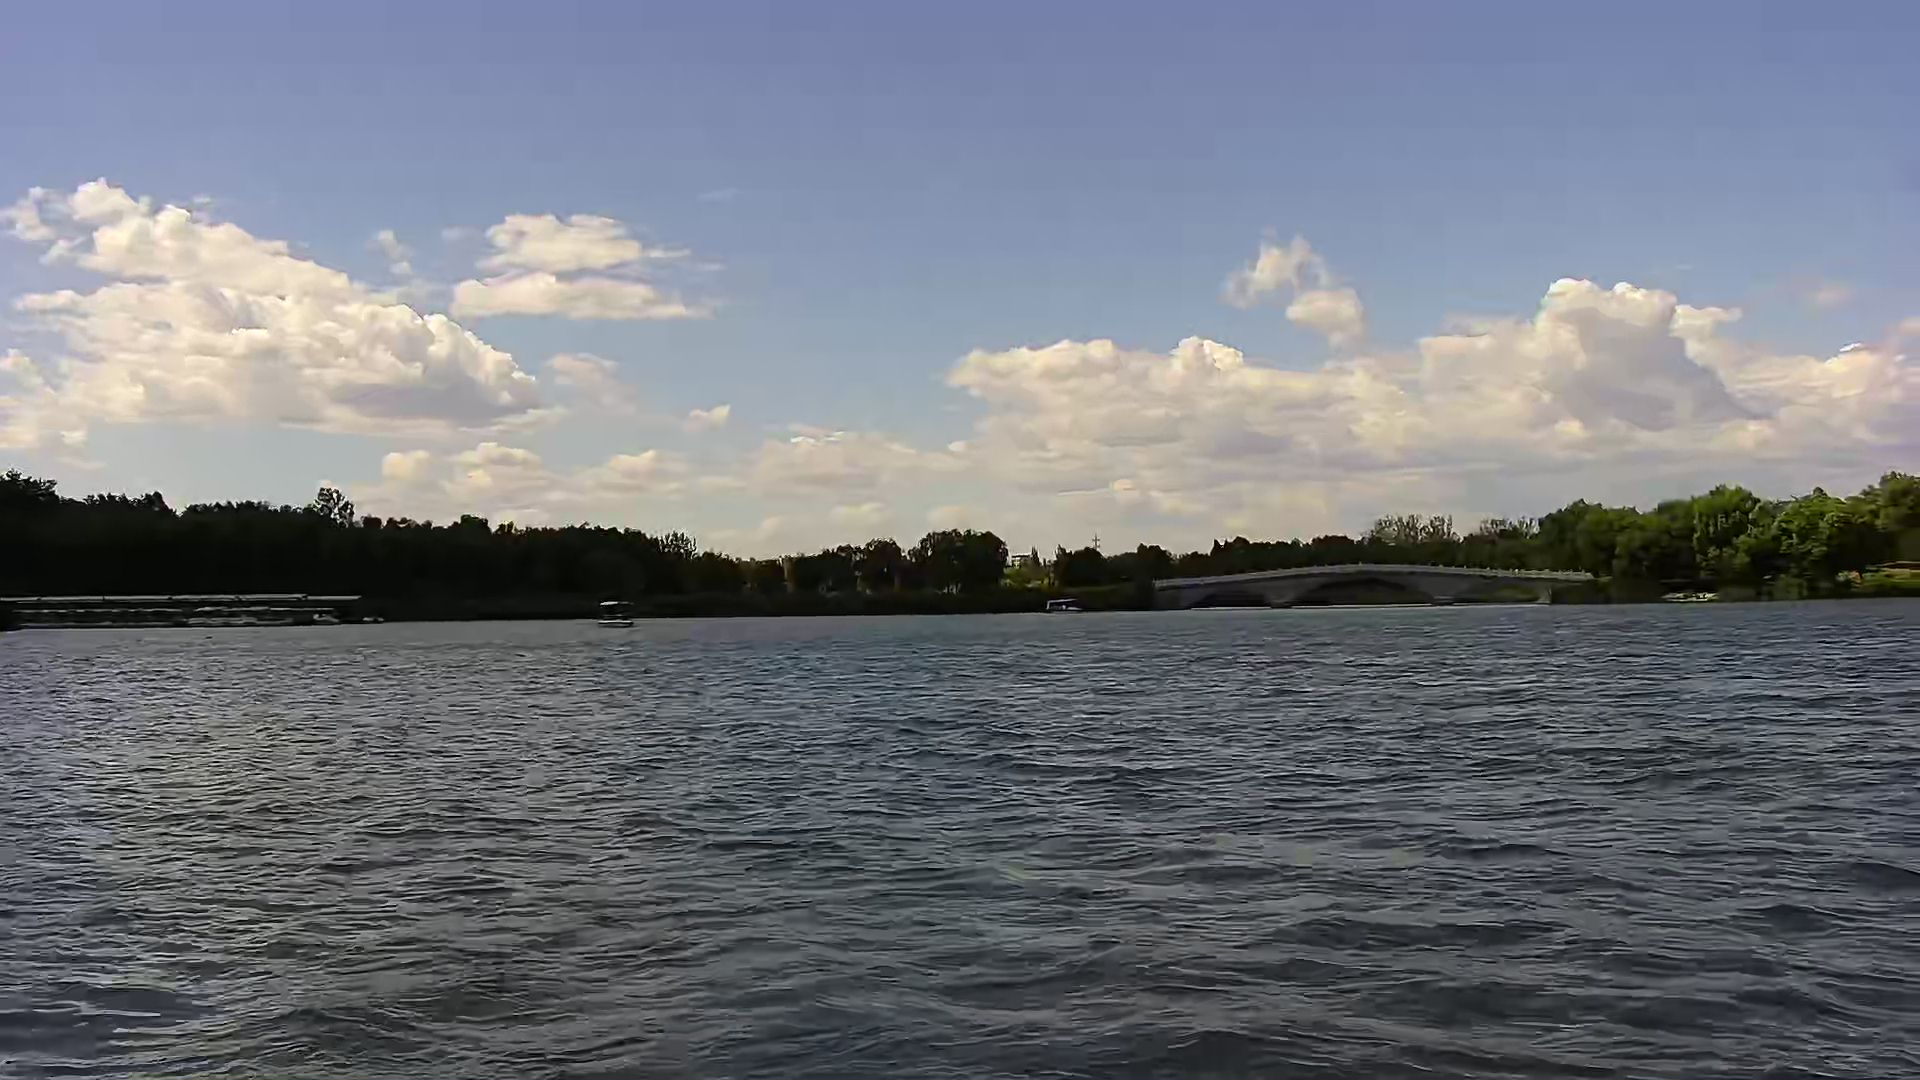boat: (591, 592, 644, 634)
bridge: (1153, 564, 1597, 611)
harbor: (1, 588, 371, 626)
